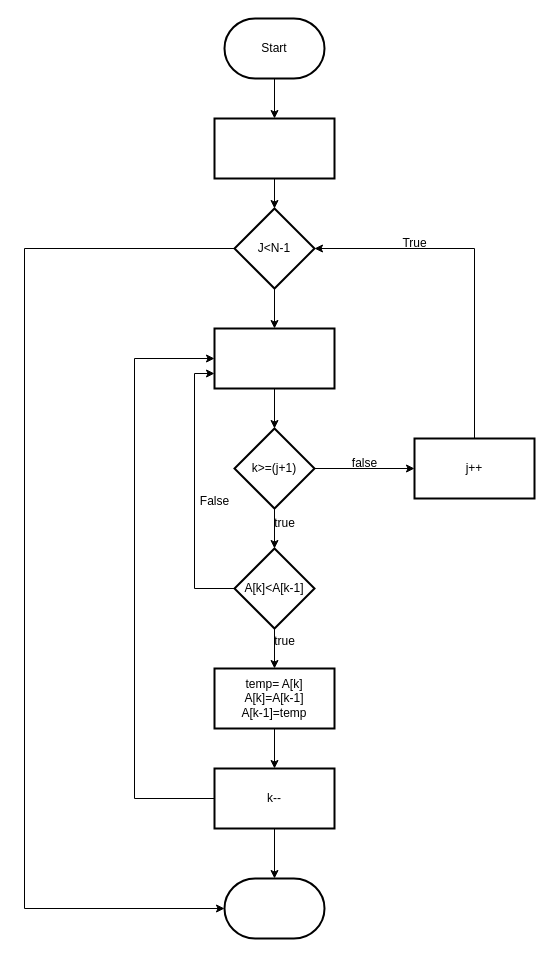
This 553x956 diagram has some shape labels left out. Here are the shapes that lost their labels. From the top down, the box of each, then its label:
(213, 117, 335, 179): Int N, j, k = 0, k, A[50], temp
(213, 327, 335, 389): k = N-1
(223, 877, 325, 939): End
